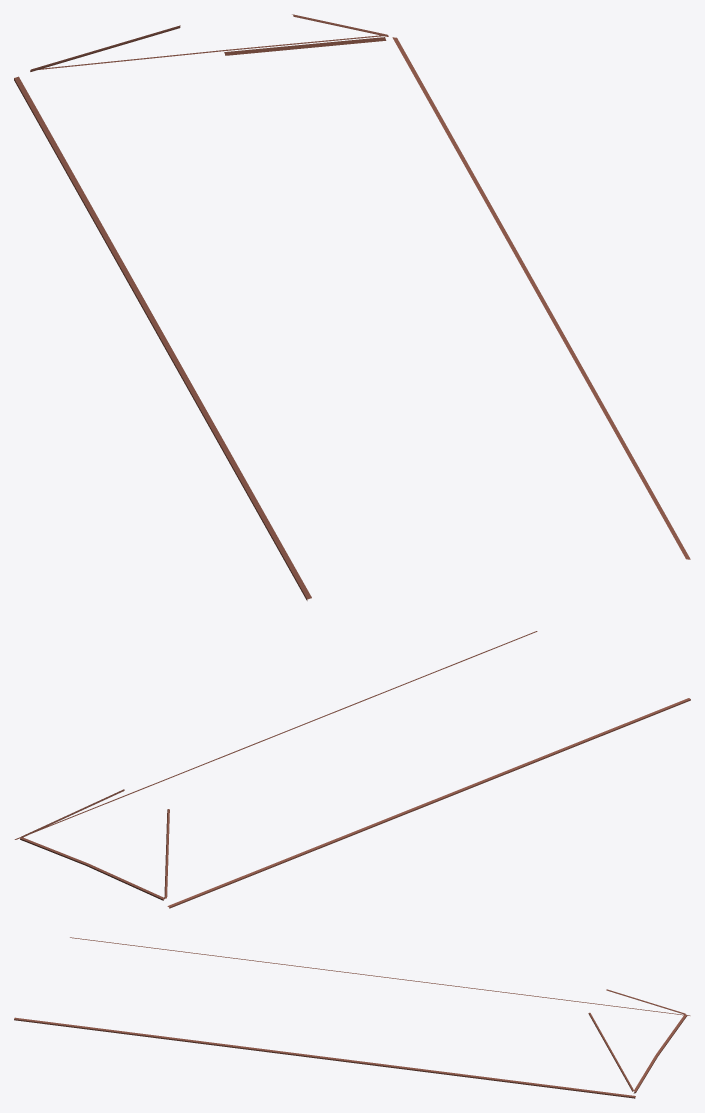
3 renders of one model, top to bottom at view 1: azimuth 30°, elevation 25°; view 2: azimuth 150°, elevation 25°; view 3: azimuth 270°, elevation 25°, orthographic. The views are drawn at different scales.
Parts seen in each view (by area): view 1: detail; view 2: detail; view 3: detail.
Part boxes in pixels (x1,y1,x2,y2): detail: [14, 14, 690, 600]; detail: [14, 631, 690, 908]; detail: [14, 937, 690, 1098].
Bounding box in the file's own units: 47.33 × 6.81 × 84.53.
